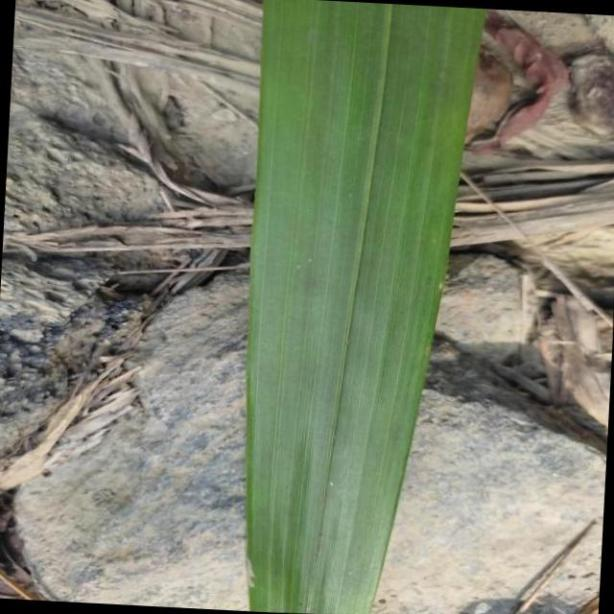Healthy: (246, 0, 488, 614)
